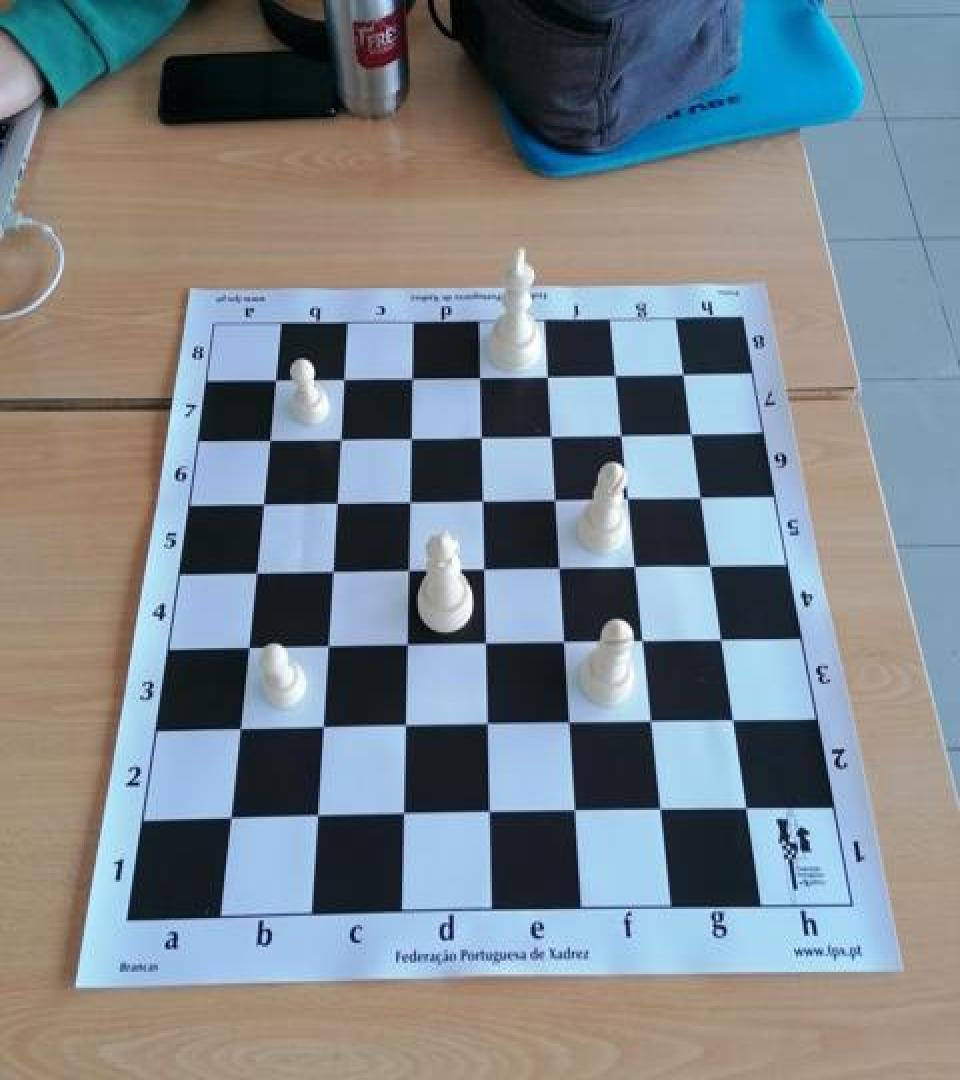xcorner: (263, 359, 293, 393), (257, 420, 287, 454), (250, 484, 280, 518), (242, 554, 272, 588), (234, 629, 264, 663), (225, 711, 255, 745), (215, 801, 245, 835), (331, 359, 361, 393), (327, 418, 357, 452), (318, 552, 348, 586), (308, 710, 338, 744), (302, 800, 332, 834), (399, 358, 429, 392), (397, 417, 427, 451), (396, 482, 426, 516), (394, 551, 424, 585), (393, 626, 423, 660), (391, 708, 421, 742), (388, 798, 418, 832), (467, 356, 497, 390), (468, 416, 498, 450), (469, 480, 499, 514), (470, 550, 500, 584), (472, 626, 502, 660), (475, 796, 505, 830), (538, 415, 568, 449), (542, 479, 572, 513), (546, 549, 576, 583), (551, 624, 581, 658), (556, 706, 586, 740), (561, 795, 591, 829), (602, 354, 632, 388), (608, 414, 638, 448), (615, 478, 645, 512), (622, 548, 652, 582), (630, 623, 660, 657), (638, 704, 668, 738), (647, 794, 677, 828), (670, 354, 700, 388), (678, 414, 708, 448), (688, 477, 718, 511), (698, 546, 728, 580), (709, 622, 739, 656), (720, 703, 750, 737), (733, 792, 763, 826), (323, 483, 353, 516), (313, 628, 343, 661), (473, 708, 503, 741), (534, 356, 564, 389)
